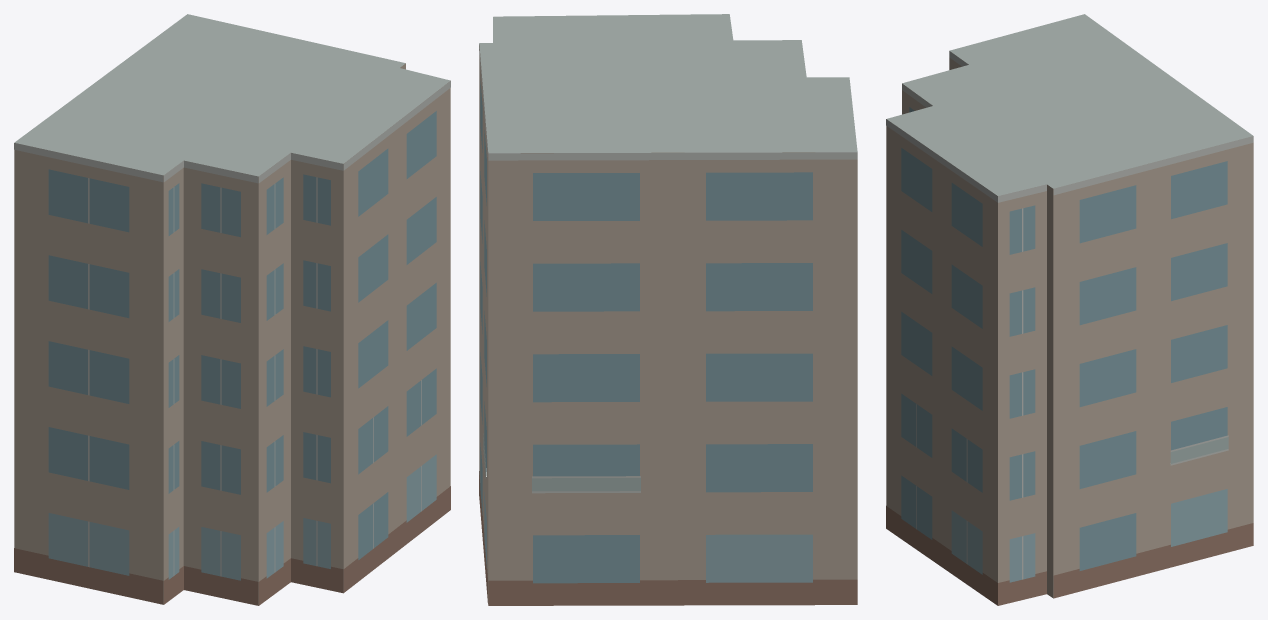
File: survey-upis-32757380.glb
3 views of the same model, side by side, from view 1: azimuth 30°, elevation 25°; view 2: azimuth 150°, elevation 25°; view 3: azimuth 270°, elevation 25° (orthographic). The views are drawn at different scales.
Visible parts, largest first — view 1: survey-upis-32757380.tmp; view 2: survey-upis-32757380.tmp; view 3: survey-upis-32757380.tmp.
Part boxes in pixels (x1,y1,x2,y2): survey-upis-32757380.tmp: (14, 14, 450, 605); survey-upis-32757380.tmp: (479, 14, 857, 605); survey-upis-32757380.tmp: (886, 14, 1253, 605).
Bounding box in the file's own units: 14.31 × 15 × 12.2.
